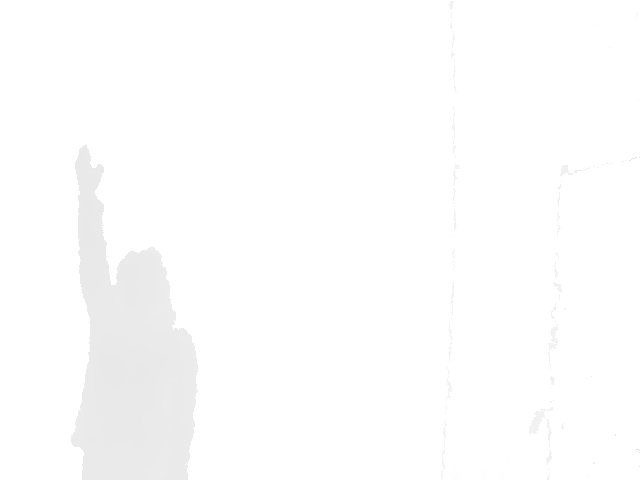hand: (74, 144, 104, 191)
head: (113, 248, 174, 311)
person: (69, 144, 199, 480)
